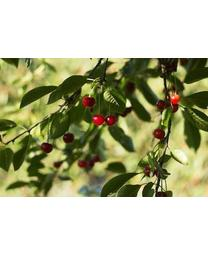cherry: (91, 115, 104, 126), (40, 142, 52, 153), (62, 133, 74, 143), (83, 97, 94, 107), (154, 129, 165, 139), (105, 116, 116, 125), (173, 97, 182, 106), (156, 99, 165, 108)
